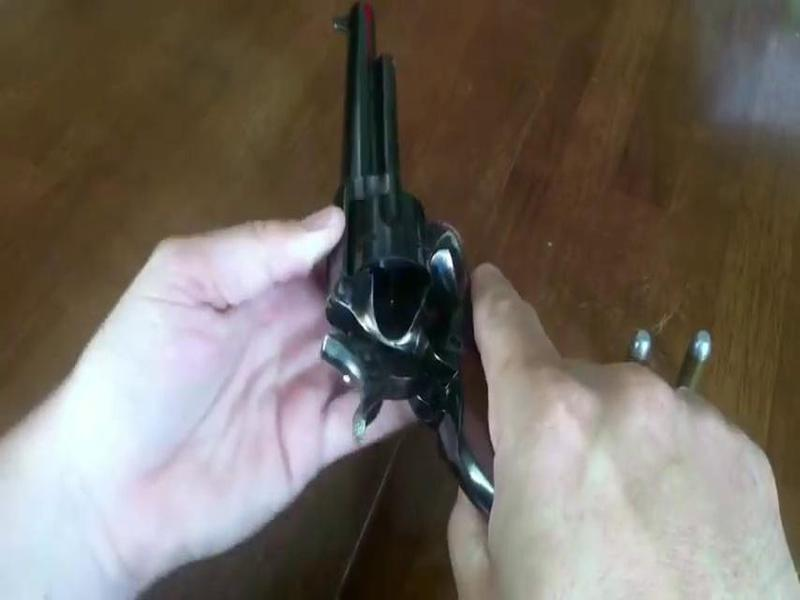Revolver: (293, 26, 560, 503)
